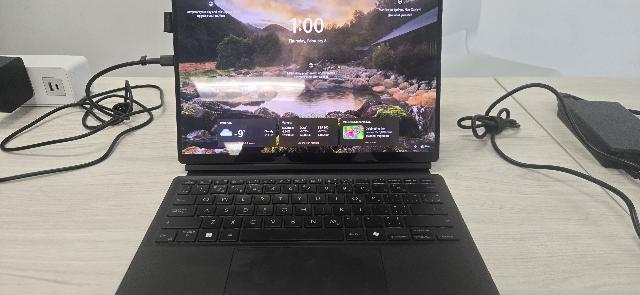Keyboard: (155, 179, 459, 243)
